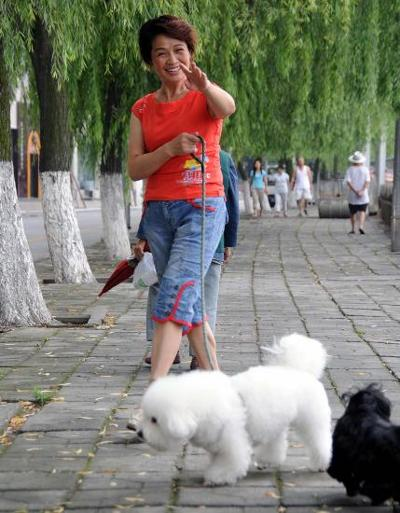person: (128, 16, 236, 425)
